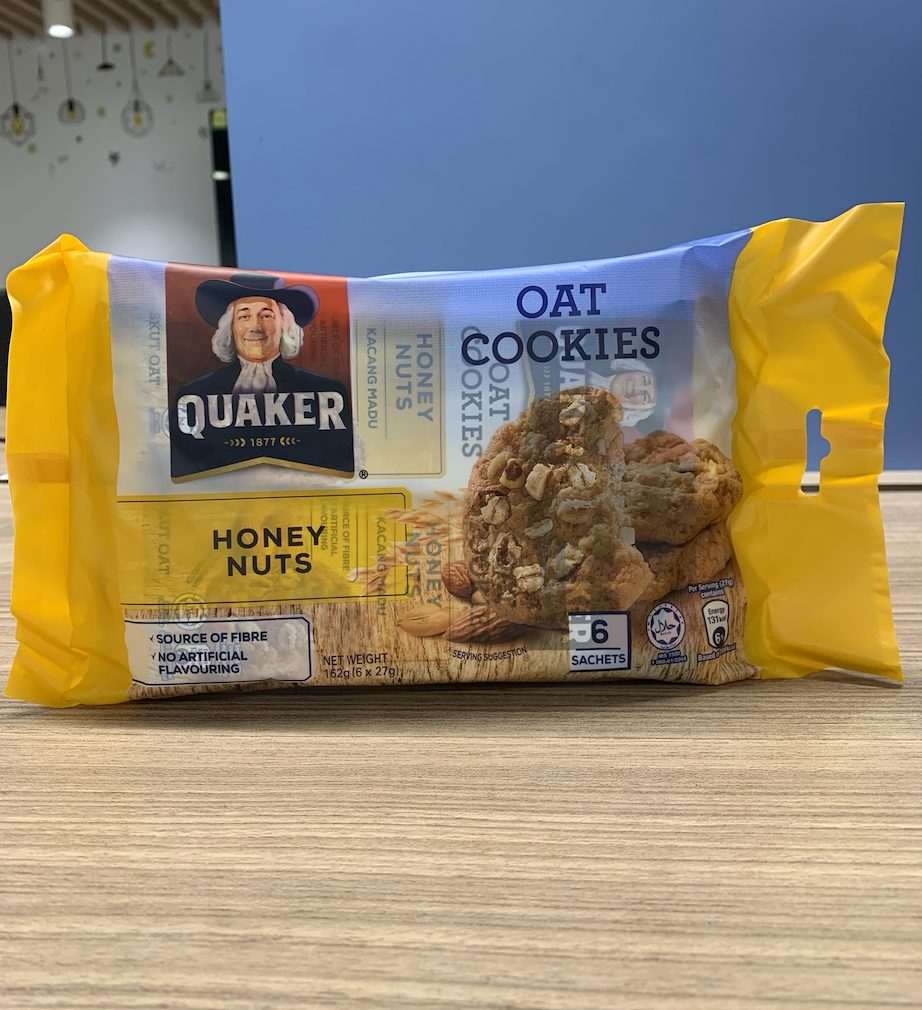cookies_100g-199g: (55, 268, 833, 676)
